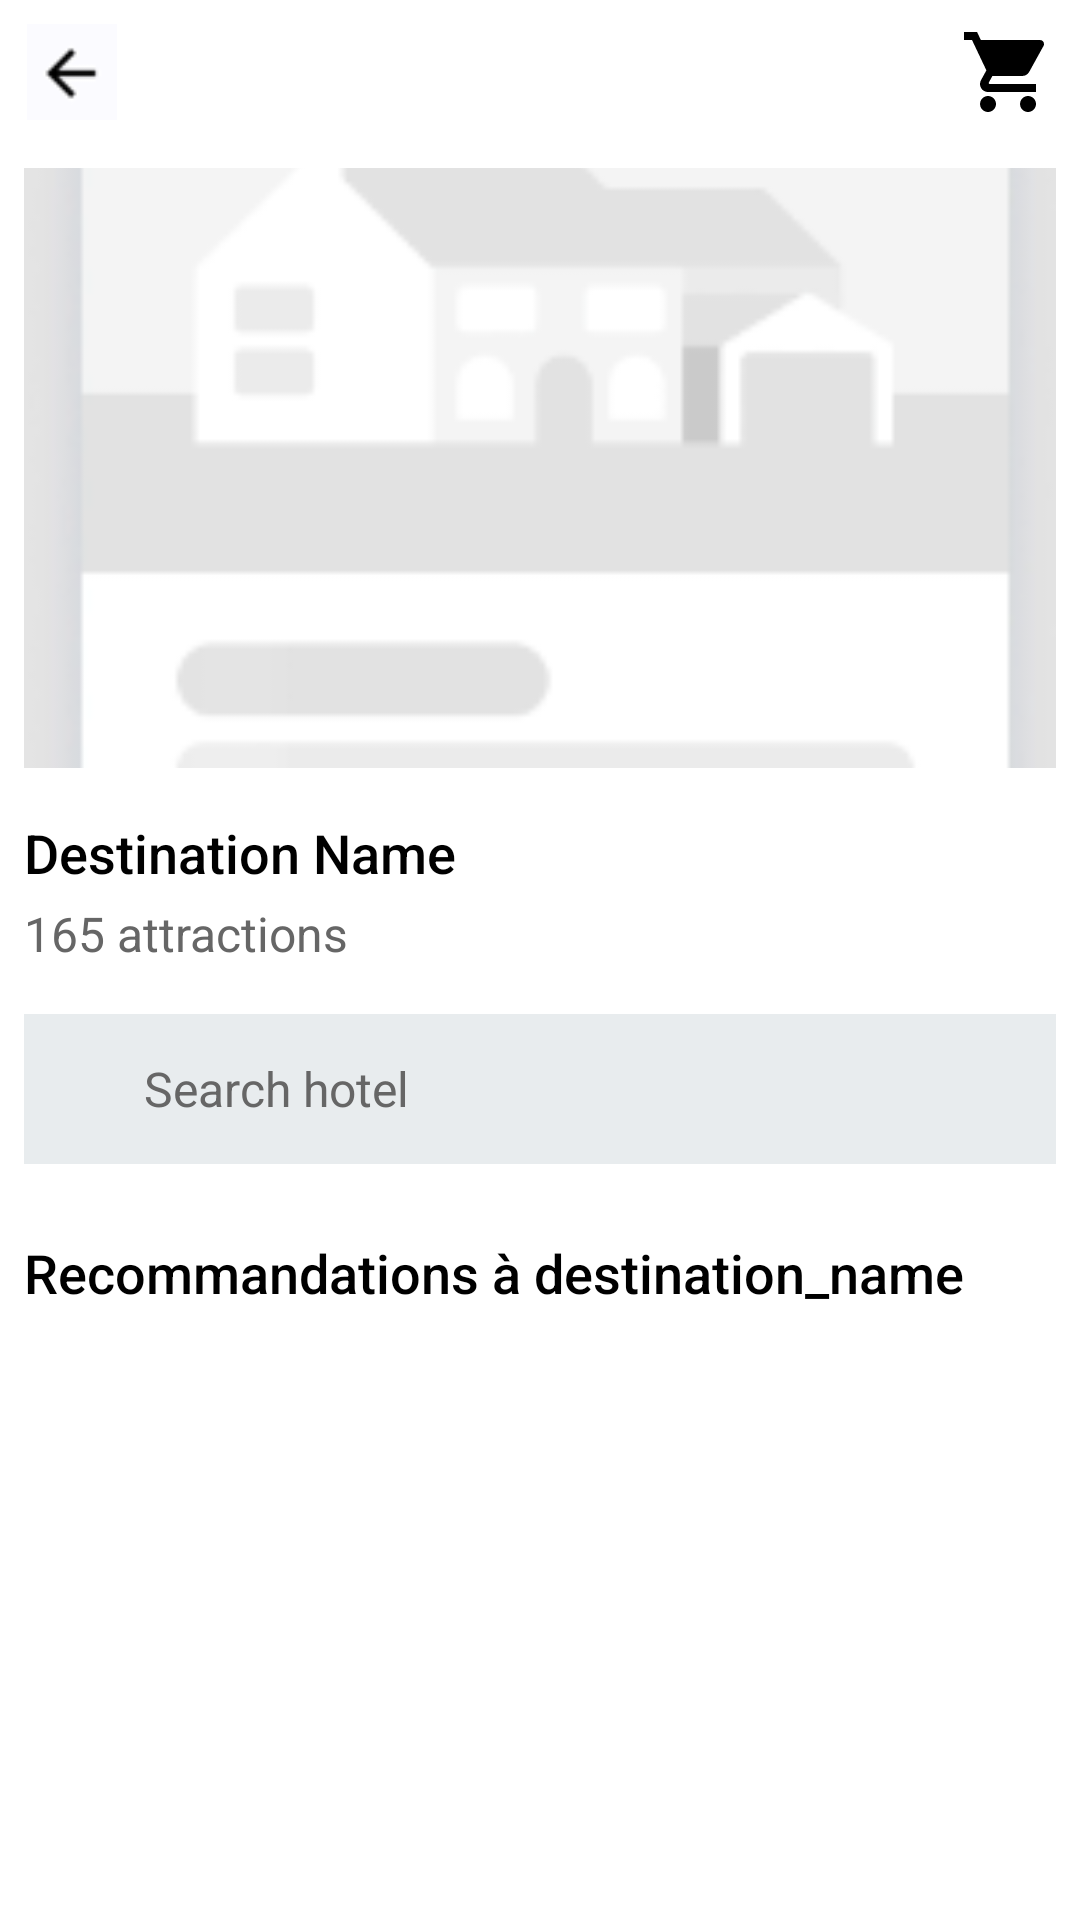

Icons on this 1080w x 1920h Android screen, each with the point to tap as point (x, y):
Back: point (71, 73)
